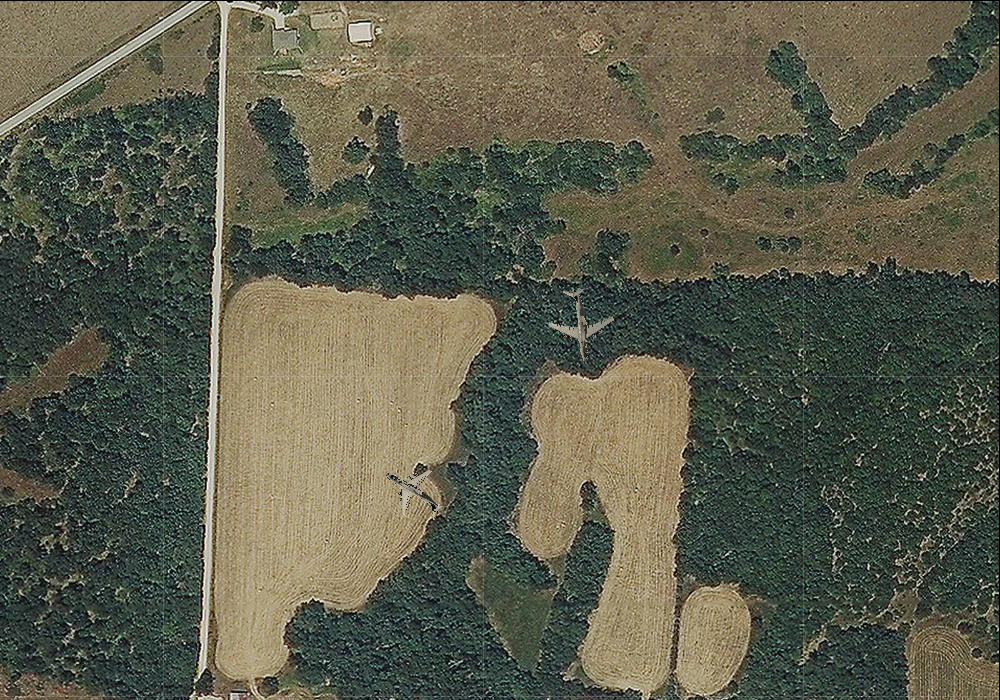plane: (368, 450, 457, 537), (540, 284, 618, 365)
